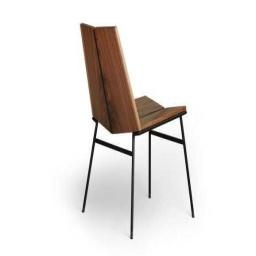Chair: (79, 23, 194, 240)
